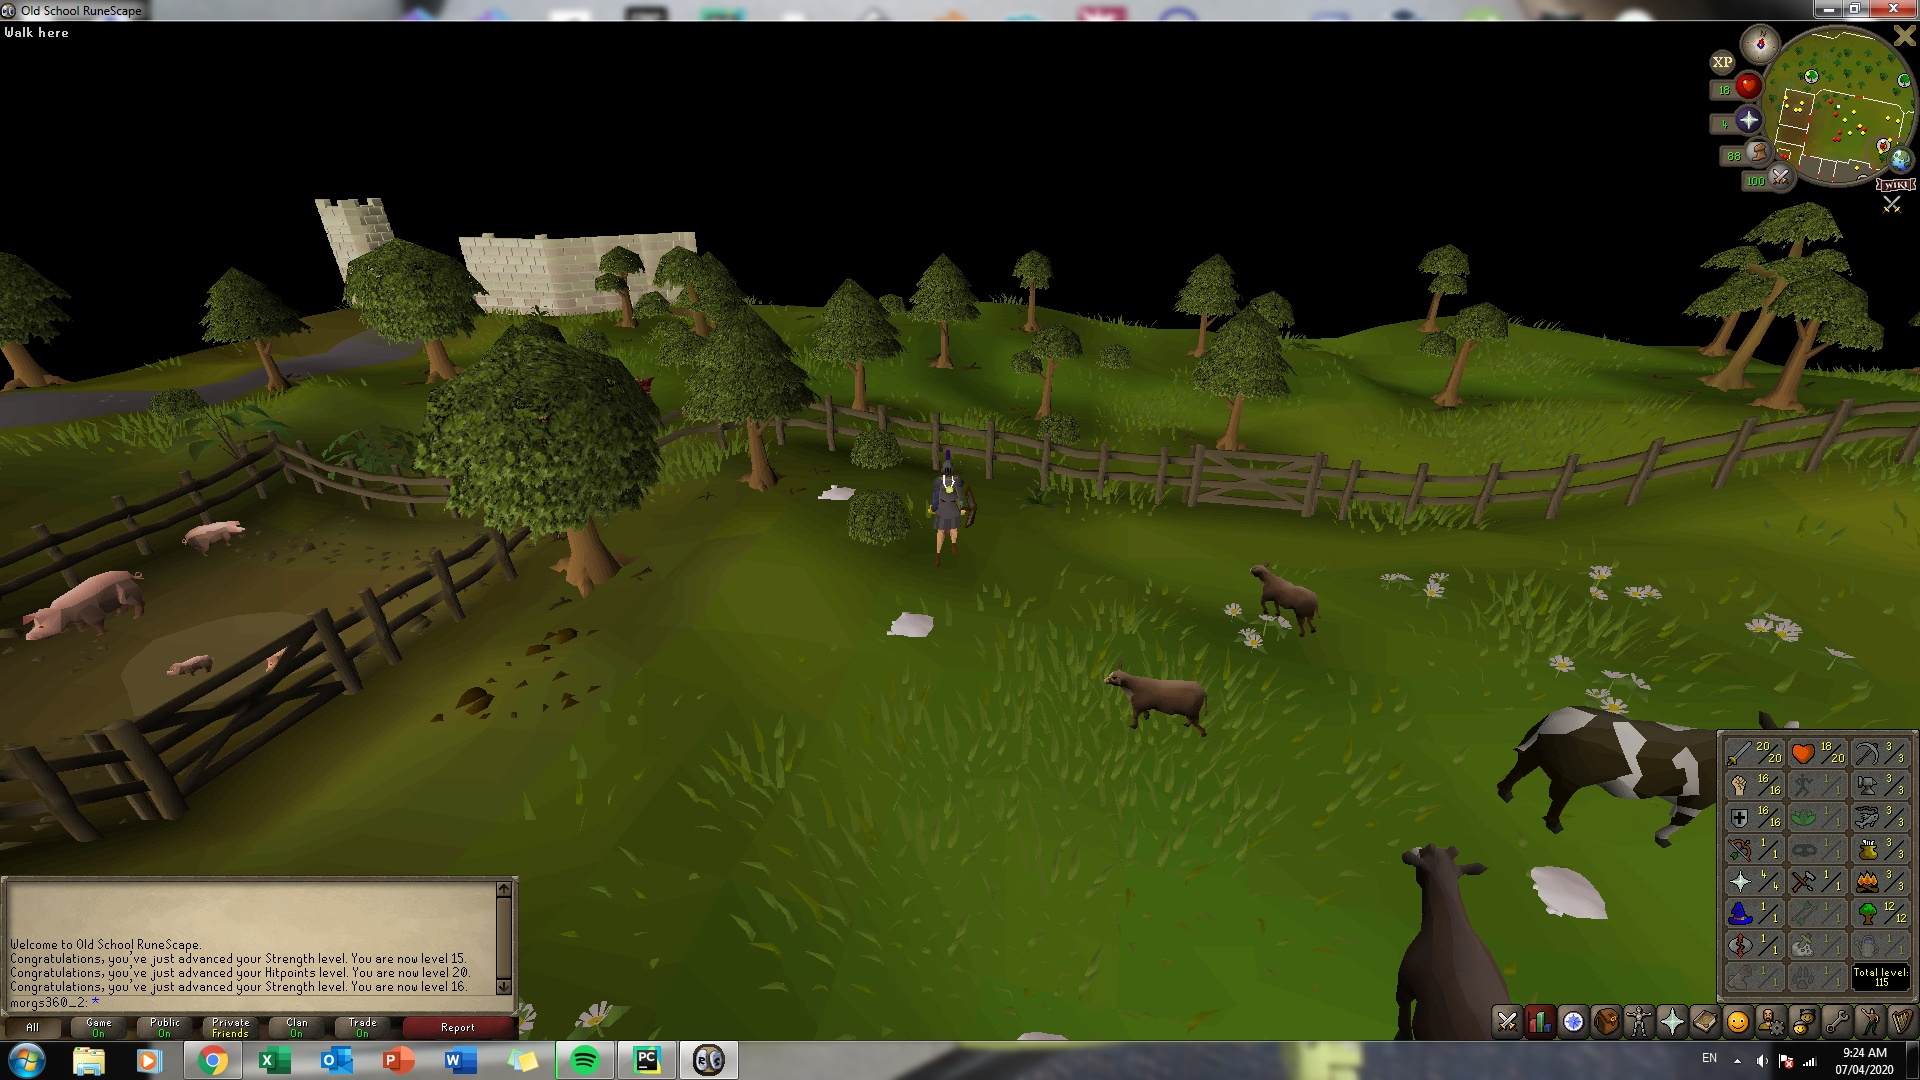cow: (1497, 687, 1716, 851), (1379, 835, 1519, 1004)
